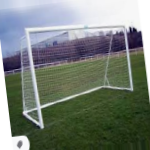goals: (20, 22, 135, 129)
